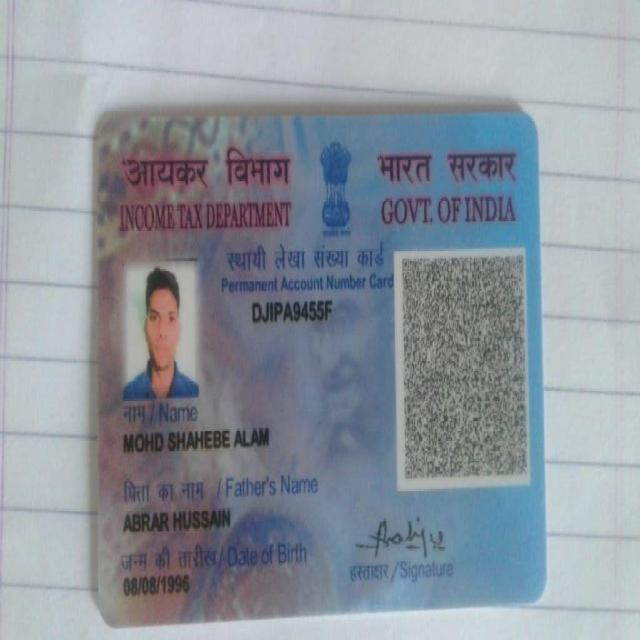pan_card: (101, 119, 543, 615)
